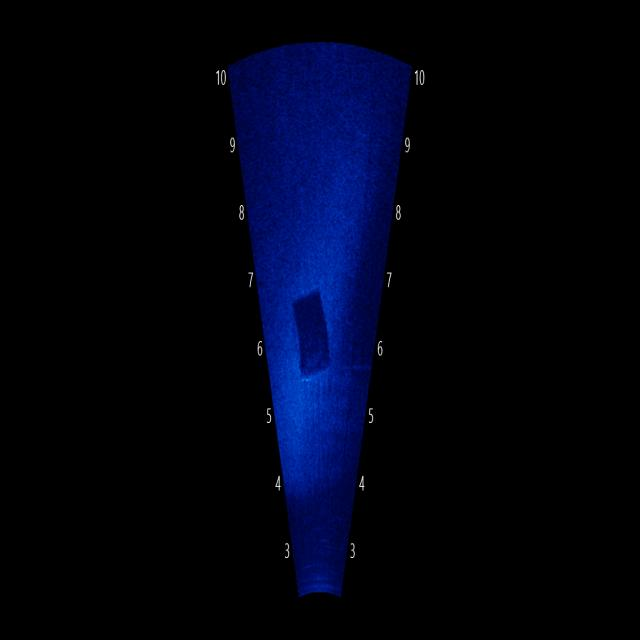square: (290, 274, 343, 395)
